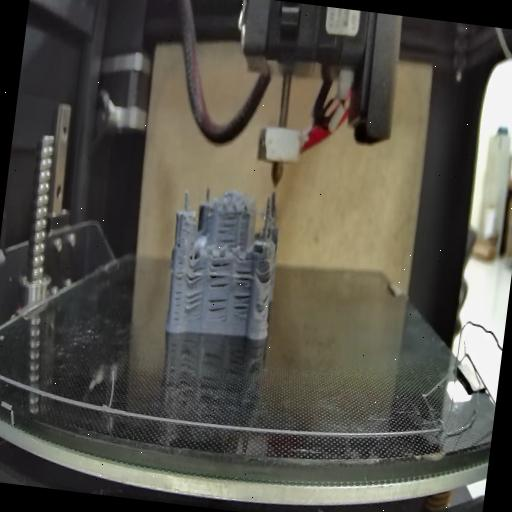cracks: (229, 264, 254, 322), (205, 260, 233, 292), (170, 264, 184, 326), (216, 212, 239, 247), (204, 294, 229, 320), (186, 260, 206, 286), (184, 290, 204, 313), (260, 264, 274, 284), (258, 290, 270, 310), (174, 236, 185, 253)
